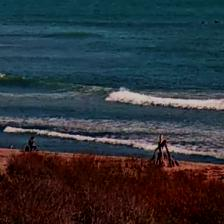surfer: (214, 20, 220, 24), (201, 21, 205, 24), (222, 38, 223, 48)
